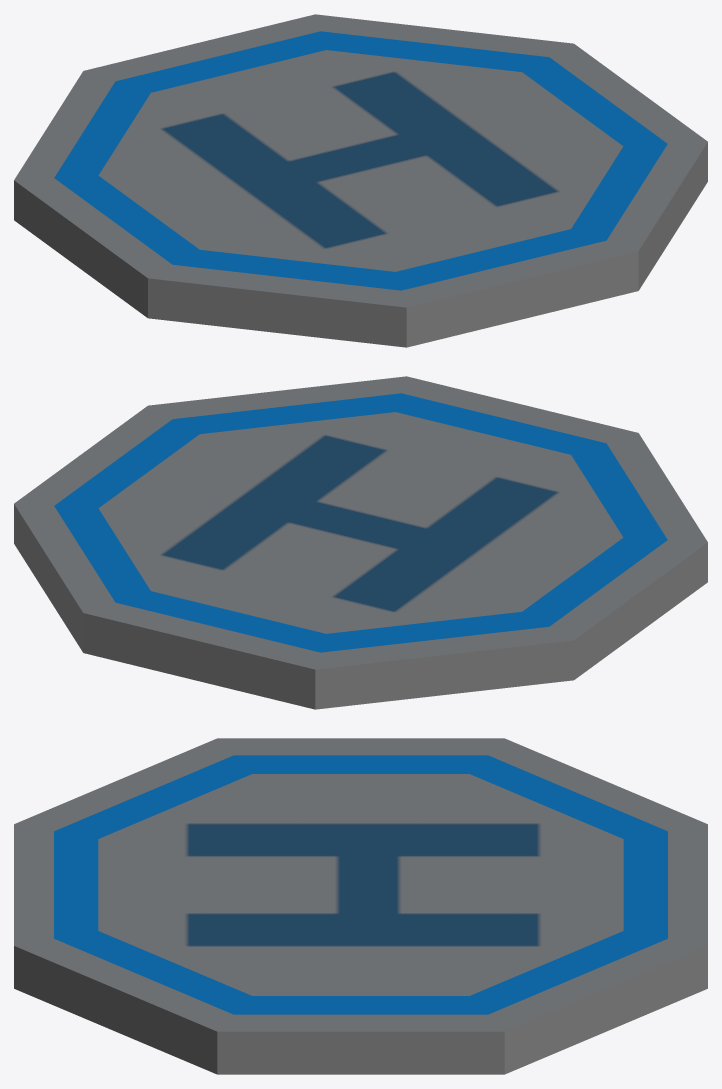
Rendered from Helipad.fbx.
3 views of the same model, one above another, from view 1: azimuth 30°, elevation 25°; view 2: azimuth 150°, elevation 25°; view 3: azimuth 270°, elevation 25° (orthographic). The views are drawn at different scales.
Visible parts, largest first — view 1: Helipad; view 2: Helipad; view 3: Helipad.
Part boxes in pixels (x1,y1,x2,y2): Helipad: (14, 14, 707, 347); Helipad: (14, 376, 707, 709); Helipad: (14, 738, 707, 1074).
Bounding box in the file's own units: 491 × 33.5 × 491.
1 material, 1 textured.
